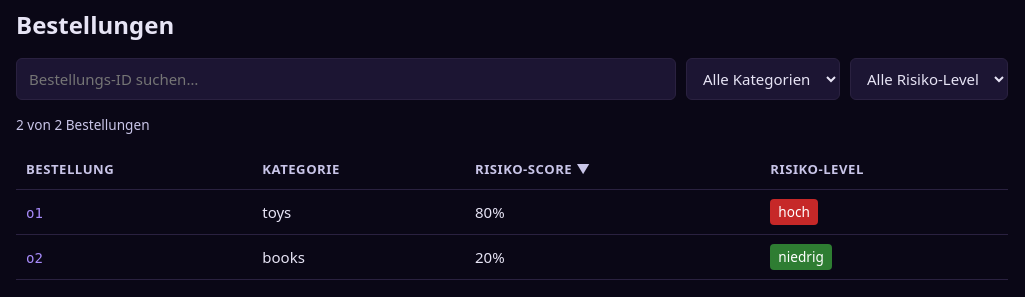
it: OrderList › filtert nach Bestellungs-ID über das Suchfeld
This screenshot has width=1025, height=297.
Expected: the link "o1" is shown, top-left (26, 205), bottom-right (43, 221)
In the search field labelled "Bestellungs-ID suchen": (346, 79) top-left (16, 58), bottom-right (676, 100), type "o2"
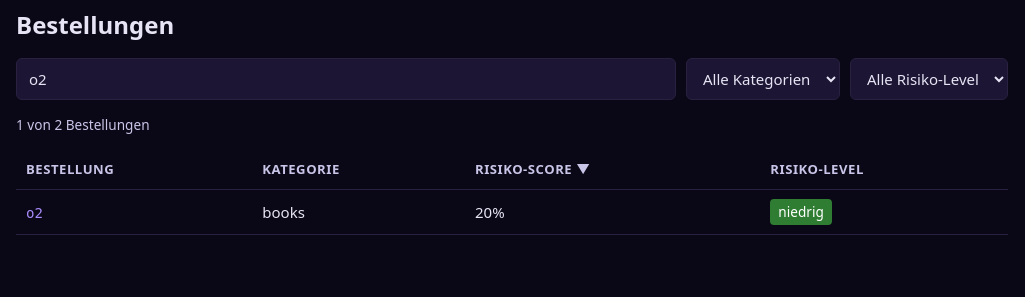
Expected: the link "o2" is shown, top-left (26, 205), bottom-right (43, 221)
Now the link "o1" is gone
